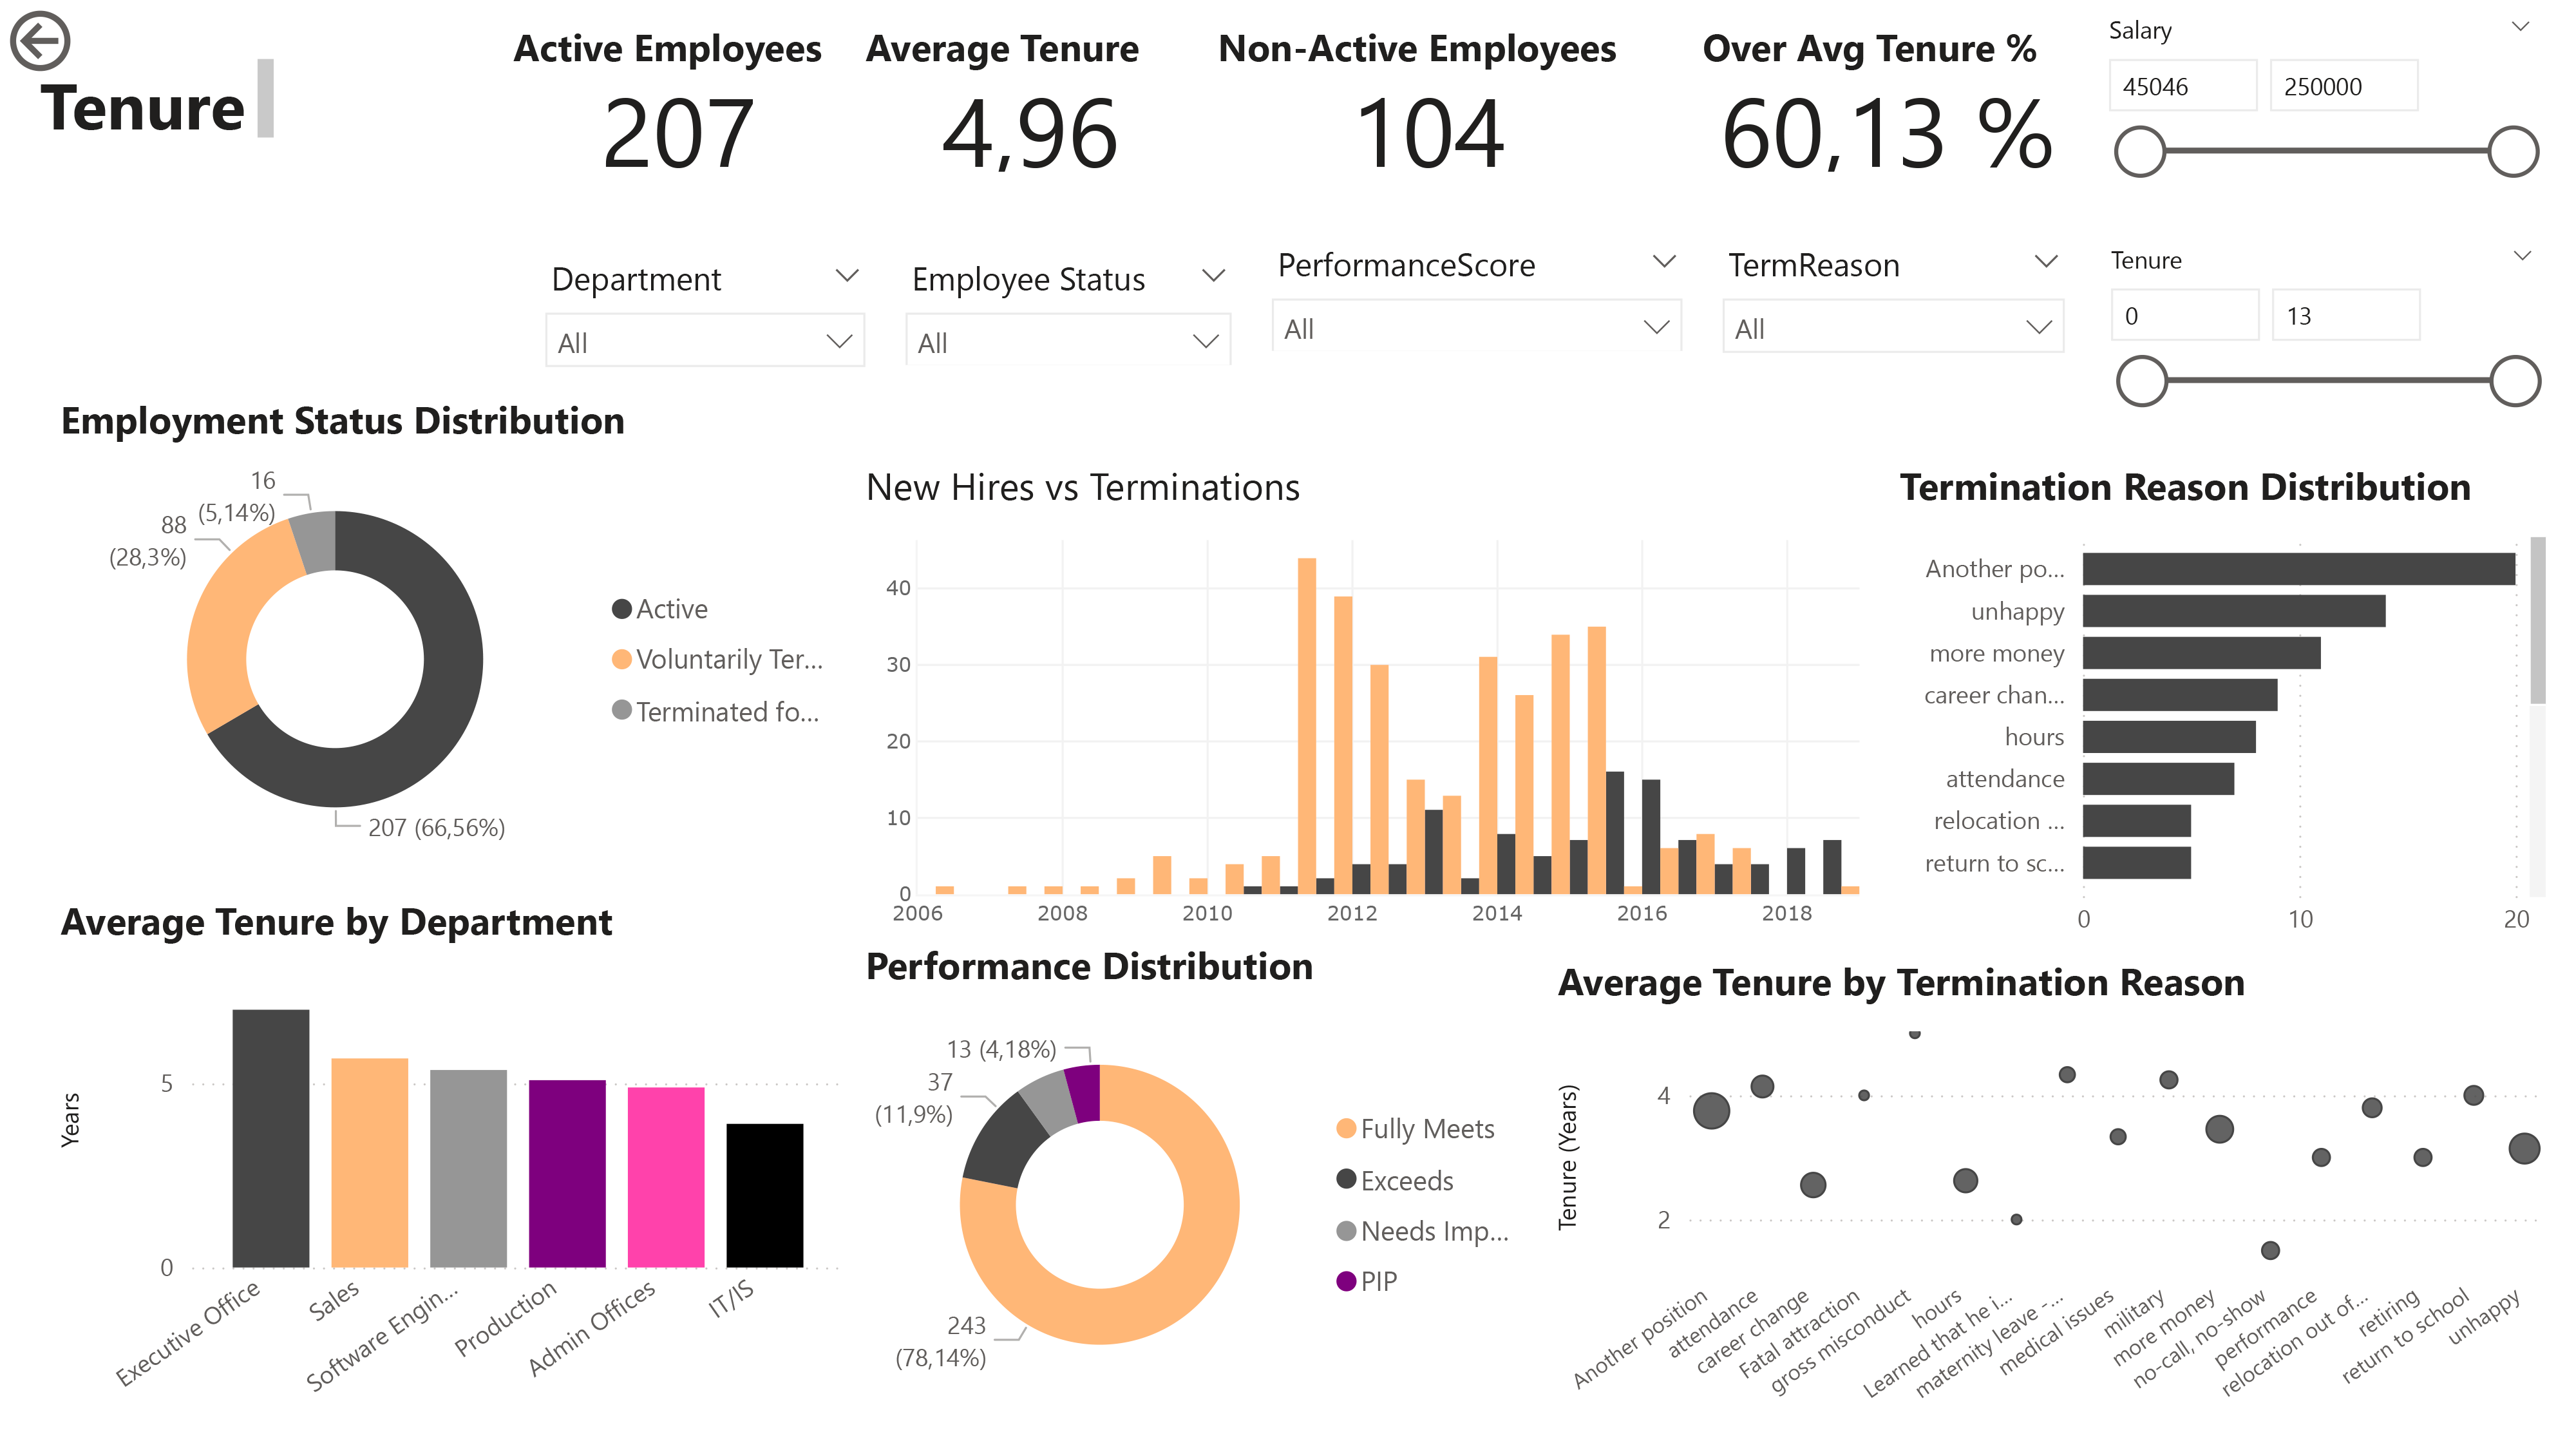

What the dashboard file says about the page in this screenshot:
{"tool":"powerbi","page":{"name":"Tenure & Term","canvas":[1280,720],"ordinal":4},"visuals":[{"type":"card","title":"Average Tenure","fields":{"Values":["Avg(EmploymentStatus.Tenure)"]},"box":[425,10,175,80],"z":0},{"type":"clusteredColumnChart","title":"Average Tenure by Department","fields":{"Category":["Jobs.Department"],"Y":["Avg(EmploymentStatus.Tenure)"]},"box":[25.5,443.8,399.8,260.7],"z":1000},{"type":"histogram7D0E580F1FEB4DDA901A6D8146EA6387","title":"New Hires vs Terminations","fields":{"col_2":["EmploymentStatus.DateofTermination"],"col_3":["CountNonNull(EmploymentStatus.EmpID)"],"col_4":["EmploymentStatus.DateofHire"],"col_5":["Employees.EmpID"]},"box":[425,227.5,513.8,246.2],"z":2000},{"type":"clusteredBarChart","title":"Termination Reason Distribution","fields":{"Category":["EmploymentStatus.TermReason"],"Y":["CountNonNull(EmploymentStatus.EmpID)"]},"box":[938.8,227.5,331.2,246.2],"z":3000},{"type":"scatterChart","title":"Average Tenure by Termination Reason","fields":{"Y":["Avg(EmploymentStatus.Tenure)"],"X":["EmploymentStatus.TermReason"],"Size":["CountNonNull(EmploymentStatus.EmpID)"]},"box":[769.4,473.9,500.6,230.6],"z":4000},{"type":"card","title":"Active Employees","fields":{"Values":["EmploymentStatus.Active Employees"]},"box":[250,10,175,80],"z":5000},{"type":"card","title":"Non-Active Employees","fields":{"Values":["EmploymentStatus.Non-Active Employees"]},"box":[600,10,220,80],"z":6000},{"type":"slicer","fields":{"Values":["Jobs.Department"]},"box":[260.7,121.7,179.6,73],"z":7000},{"type":"slicer","fields":{"Values":["Employees.Salary"]},"box":[1035,1.2,235,96.2],"z":8000},{"type":"slicer","fields":{"Values":["EmploymentStatus.TermReason"]},"box":[845.9,114.7,190,73],"z":9000},{"type":"slicer","fields":{"Values":["Performance.PerformanceScore"]},"box":[622.2,114.7,223.6,59.1],"z":10000},{"type":"slicer","fields":{"Values":["EmploymentStatus.Employee Status"]},"box":[440.3,121.7,181.9,59.1],"z":11000},{"type":"card","title":"Over Avg Tenure %","fields":{"Values":["EmploymentStatus.Over AVG Tenure %"]},"box":[841.2,10,193.8,80],"z":12000},{"type":"donutChart","title":"Employment Status Distribution","fields":{"Y":["CountNonNull(Employees.EmpID)"],"Category":["EmploymentStatus.EmploymentStatus"]},"box":[25,195,400,238.8],"z":13000},{"type":"textbox","box":[15,23.8,126.2,51.2],"z":14000},{"type":"slicer","fields":{"Values":["EmploymentStatus.Tenure"]},"box":[1035.9,114.7,235.2,89.2],"z":15000},{"type":"actionButton","box":[0,0,100,40],"z":16000},{"type":"donutChart","title":"Performance Distribution","fields":{"Category":["Performance.PerformanceScore"],"Y":["CountNonNull(Employees.EmpID)"]},"box":[425.3,465.8,344.1,238.7],"z":17000}]}

Visuals, with their boxes in screenshot pixels (x1, y1, x2, y2), scaled from the page's 1280x720 canvas onto the 2576x1450 screenshot:
"Average Tenure" card: crop(855, 20, 1207, 181)
"Average Tenure by Department" clusteredColumnChart: crop(52, 893, 856, 1419)
"New Hires vs Terminations" histogram7D0E580F1FEB4DDA901A6D8146EA6387: crop(855, 458, 1889, 954)
"Termination Reason Distribution" clusteredBarChart: crop(1889, 458, 2556, 954)
"Average Tenure by Termination Reason" scatterChart: crop(1548, 955, 2556, 1419)
"Active Employees" card: crop(503, 20, 855, 181)
"Non-Active Employees" card: crop(1207, 20, 1650, 181)
slicer - Jobs.Department: crop(525, 245, 886, 392)
slicer - Employees.Salary: crop(2083, 3, 2556, 196)
slicer - EmploymentStatus.TermReason: crop(1702, 231, 2085, 378)
slicer - Performance.PerformanceScore: crop(1252, 231, 1702, 350)
slicer - EmploymentStatus.Employee Status: crop(886, 245, 1252, 364)
"Over Avg Tenure %" card: crop(1693, 20, 2083, 181)
"Employment Status Distribution" donutChart: crop(50, 393, 855, 873)
textbox: crop(30, 48, 284, 151)
slicer - EmploymentStatus.Tenure: crop(2085, 231, 2558, 410)
actionButton: crop(0, 0, 201, 81)
"Performance Distribution" donutChart: crop(856, 938, 1548, 1419)
